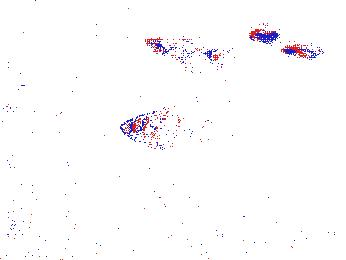X-ray fish: (122, 108, 200, 152), (235, 142, 272, 166)
red belly glassfish: (282, 42, 323, 59), (248, 26, 276, 45)
redtail glassfish: (146, 34, 224, 64)
